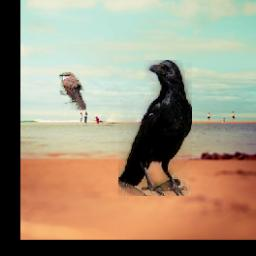Crow: (118, 61, 192, 197)
Cuckoo: (59, 72, 86, 110)
